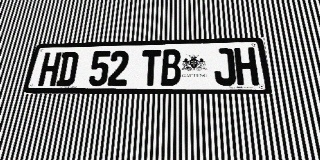2: (107, 50, 129, 86)
5: (88, 51, 111, 86)
B: (161, 49, 181, 86)
D: (56, 52, 79, 86)
H: (234, 47, 259, 85), (37, 52, 62, 86)
J: (213, 48, 236, 85)
T: (140, 50, 161, 86)
